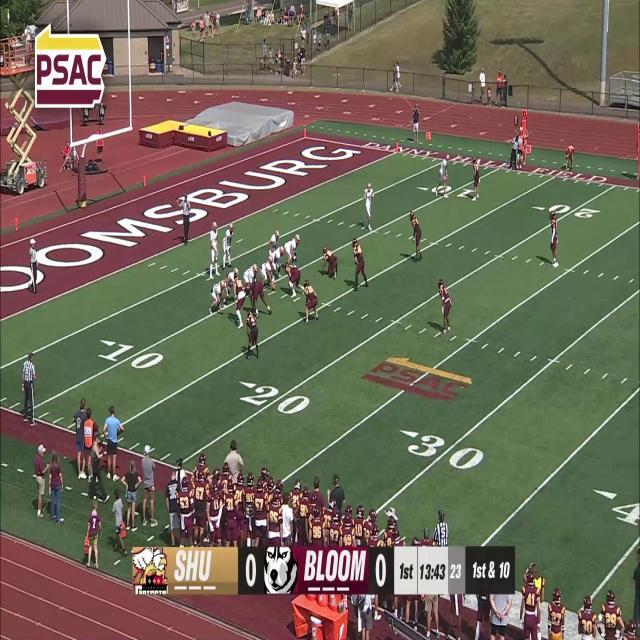football: (271, 284, 276, 290)
